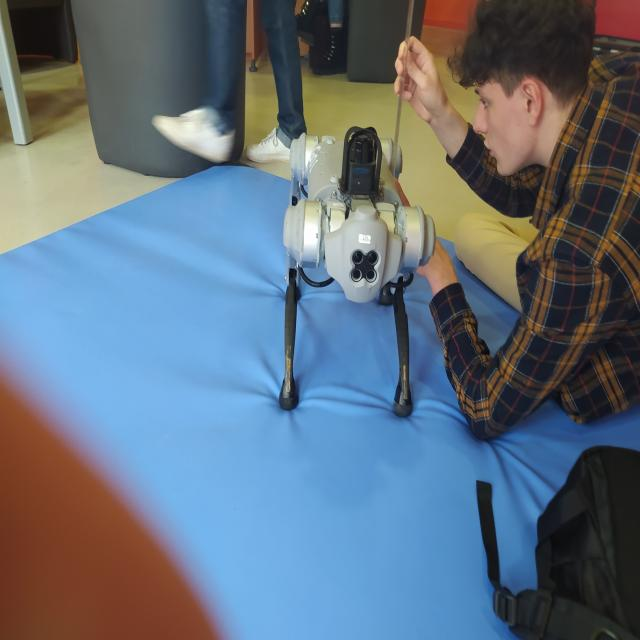unitree-go1-robot: (280, 129, 434, 425)
